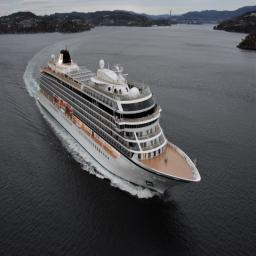cruises: (37, 43, 203, 200)
